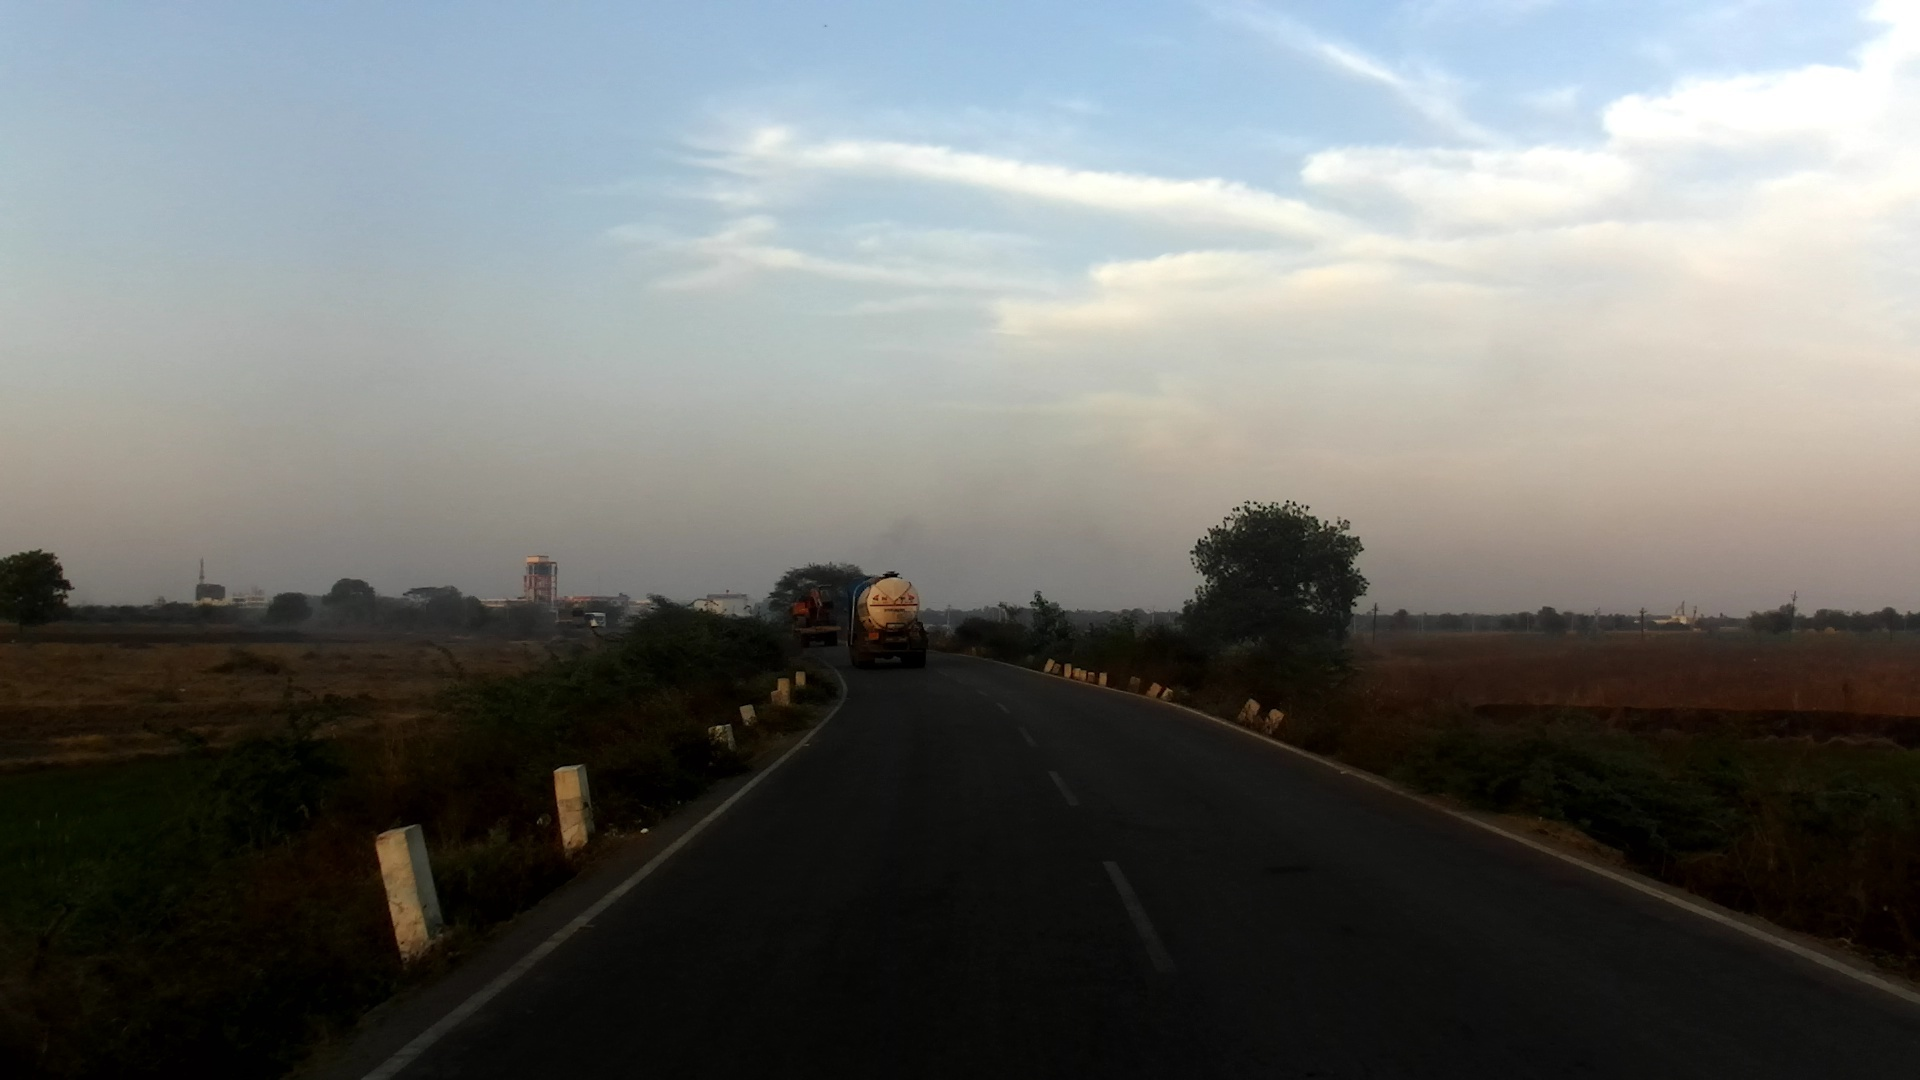truck: (847, 566, 930, 671), (789, 585, 837, 651)
